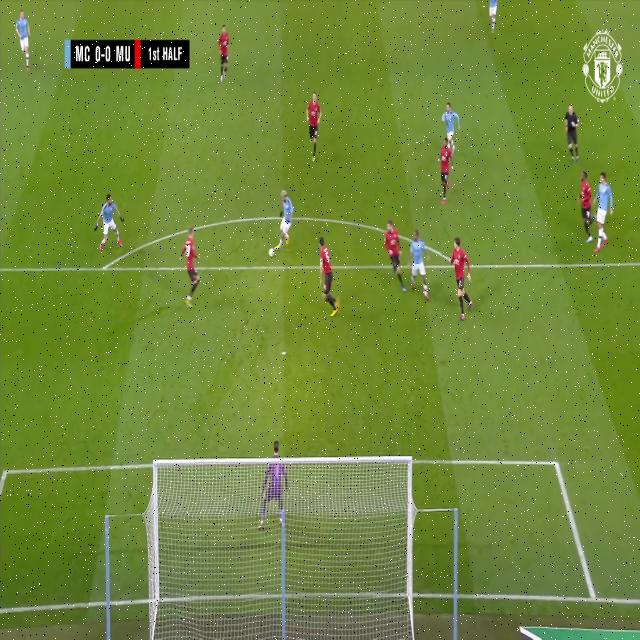Ball: (268, 246, 276, 256)
GoalKeeper: (256, 436, 291, 536)
TEAM 1: (451, 238, 474, 319), (182, 230, 203, 306), (321, 238, 338, 315), (385, 219, 405, 283), (578, 170, 594, 243), (306, 92, 322, 161), (438, 138, 452, 205), (218, 23, 232, 81)
TEAM 2: (94, 195, 128, 253), (589, 171, 613, 252), (406, 229, 432, 299), (274, 191, 295, 254), (14, 10, 31, 71), (441, 96, 460, 150), (484, 0, 500, 39)
